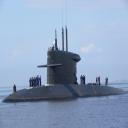submarine: (3, 23, 128, 104)
